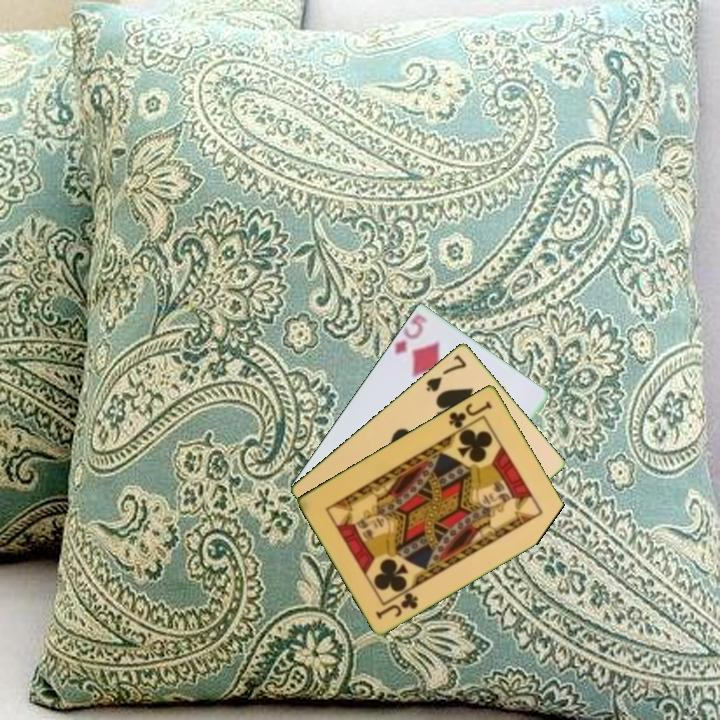5d: (391, 313, 428, 358)
7s: (422, 351, 469, 394)
Jc: (445, 397, 495, 431), (372, 588, 421, 622)
